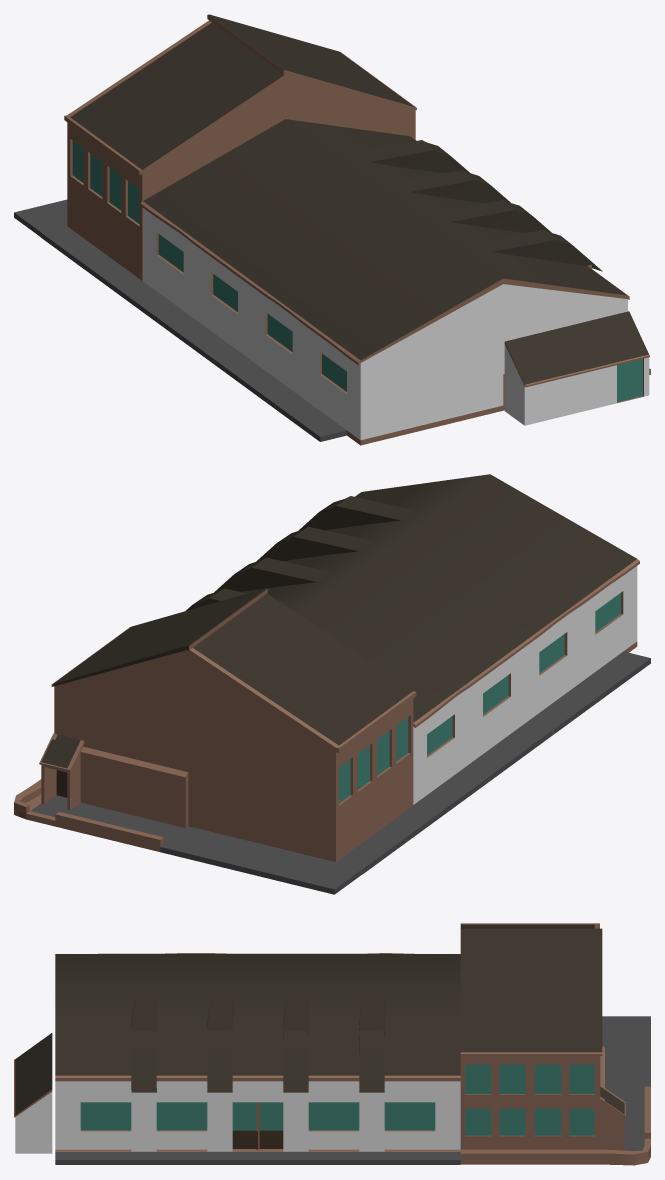
File: HouseBlock1-2.fbx
3 views of the same model, one above another, from view 1: azimuth 30°, elevation 25°; view 2: azimuth 150°, elevation 25°; view 3: azimuth 270°, elevation 25° (orthographic). The views are drawn at different scales.
Visible parts, largest first — view 1: pCube5; view 2: pCube5; view 3: pCube5.
Boxes of the visible parts, box(x1,y1,x2,y2) form: pCube5: box(14, 14, 650, 445); pCube5: box(14, 474, 650, 894); pCube5: box(14, 923, 650, 1165).
Bounding box in the file's own units: 26.95 × 14.64 × 50.19.
